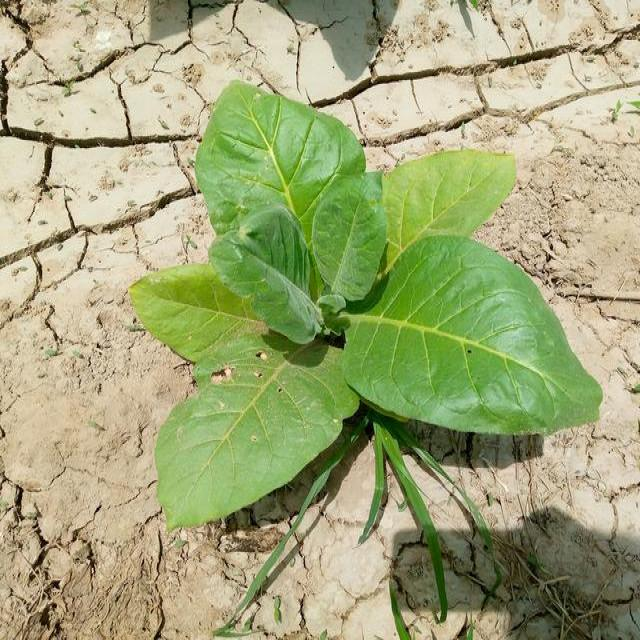crop: (127, 79, 604, 527)
